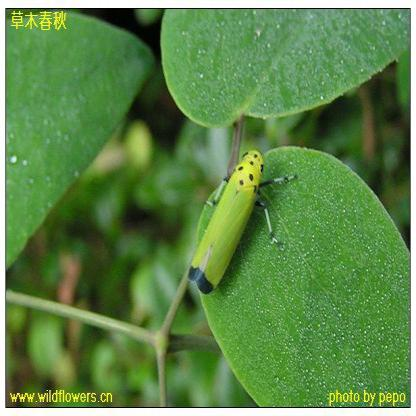Green-Leafhopper: (188, 142, 295, 296)
